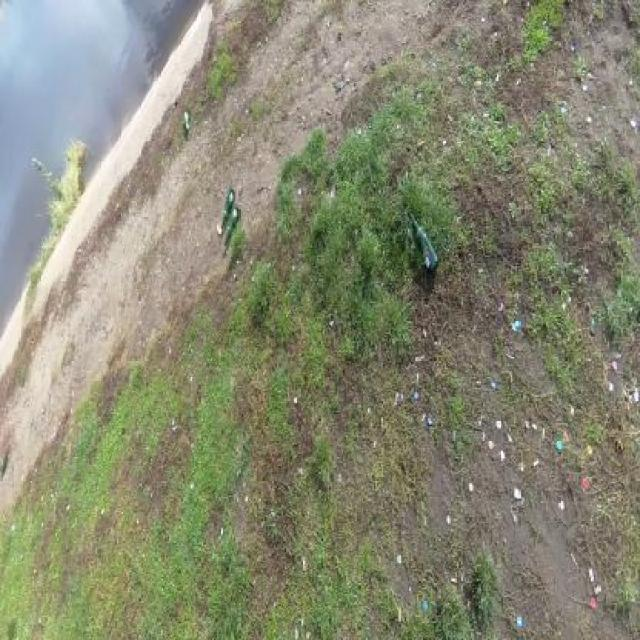Garbage: (407, 209, 441, 277), (224, 203, 240, 246), (221, 186, 236, 230), (183, 109, 189, 132)
